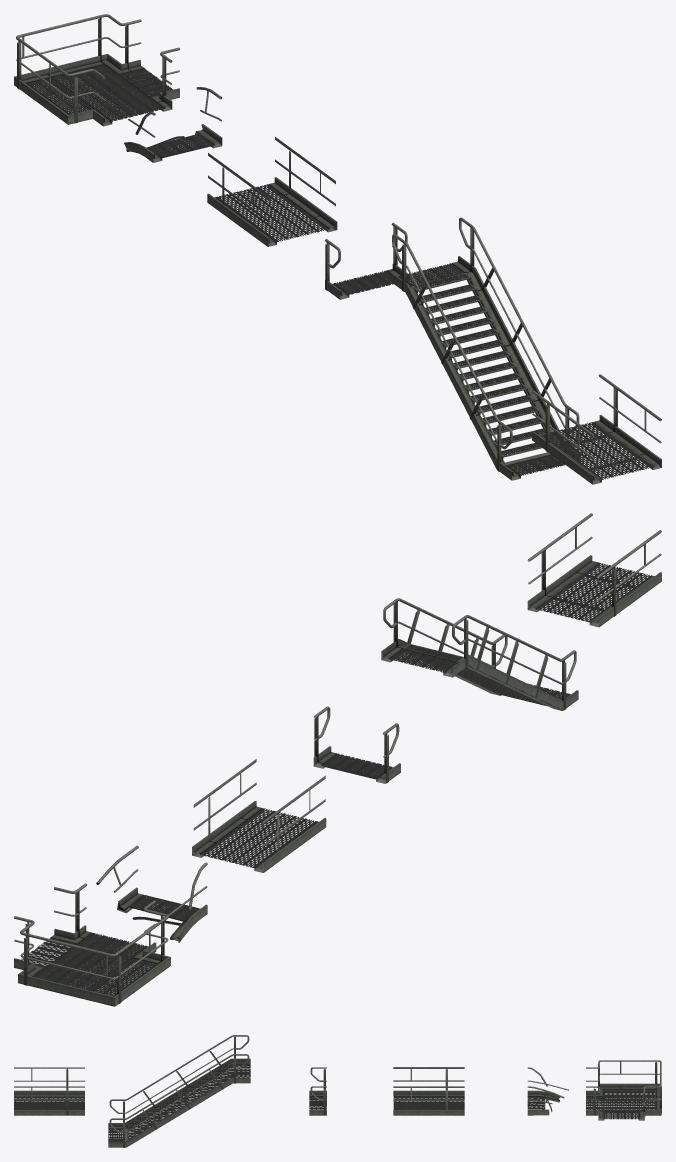
File: CatwalkCollection.fbx
3 renders of one model, top to bottom at view 1: azimuth 30°, elevation 25°; view 2: azimuth 150°, elevation 25°; view 3: azimuth 270°, elevation 25°, orthographic. The views are drawn at different scales.
Visible parts, largest first — view 1: Body_hanging_stair_128.smd.001, Body_hanging_walkway_corner.smd, Body_hanging_walkway_128a.smd.001, default_hanging_walkway_128a_cards_model.dmx, Body_walkway_destroyed_64a.smd.001, Body_hanging_walkway_32b.smd.002; view 2: Body_hanging_walkway_corner.smd, Body_hanging_stair_128.smd.001, Body_hanging_walkway_128a.smd.001, default_hanging_walkway_128a_cards_model.dmx, Body_walkway_destroyed_64a.smd.001, Body_hanging_walkway_32b.smd.002; view 3: Body_hanging_stair_128.smd.001, Body_hanging_walkway_corner.smd, default_hanging_walkway_128a_cards_model.dmx, Body_hanging_walkway_128a.smd.001, Body_walkway_destroyed_64a.smd.001, Body_hanging_walkway_32b.smd.002.
Boxes of the visible parts, left/top/right/bottom form: Body_hanging_stair_128.smd.001: left=390, top=217, right=580, bottom=480; Body_hanging_walkway_corner.smd: left=14, top=14, right=179, bottom=126; Body_hanging_walkway_128a.smd.001: left=532, top=374, right=661, bottom=484; default_hanging_walkway_128a_cards_model.dmx: left=207, top=137, right=337, bottom=246; Body_walkway_destroyed_64a.smd.001: left=124, top=87, right=222, bottom=162; Body_hanging_walkway_32b.smd.002: left=325, top=222, right=408, bottom=299; Body_hanging_walkway_corner.smd: left=14, top=883, right=170, bottom=1006; Body_hanging_stair_128.smd.001: left=381, top=598, right=578, bottom=710; Body_hanging_walkway_128a.smd.001: left=527, top=513, right=661, bottom=627; default_hanging_walkway_128a_cards_model.dmx: left=192, top=759, right=326, bottom=872; Body_walkway_destroyed_64a.smd.001: left=96, top=845, right=207, bottom=942; Body_hanging_walkway_32b.smd.002: left=313, top=706, right=400, bottom=783; Body_hanging_stair_128.smd.001: left=108, top=1035, right=250, bottom=1147; Body_hanging_walkway_corner.smd: left=586, top=1060, right=661, bottom=1120; default_hanging_walkway_128a_cards_model.dmx: left=393, top=1067, right=464, bottom=1115; Body_hanging_walkway_128a.smd.001: left=14, top=1067, right=84, bottom=1115; Body_walkway_destroyed_64a.smd.001: left=527, top=1067, right=568, bottom=1115; Body_hanging_walkway_32b.smd.002: left=309, top=1067, right=326, bottom=1115.
Size of the model in its own units: 261 by 353 by 2223.
Materials: 7 (7 with a texture image).
